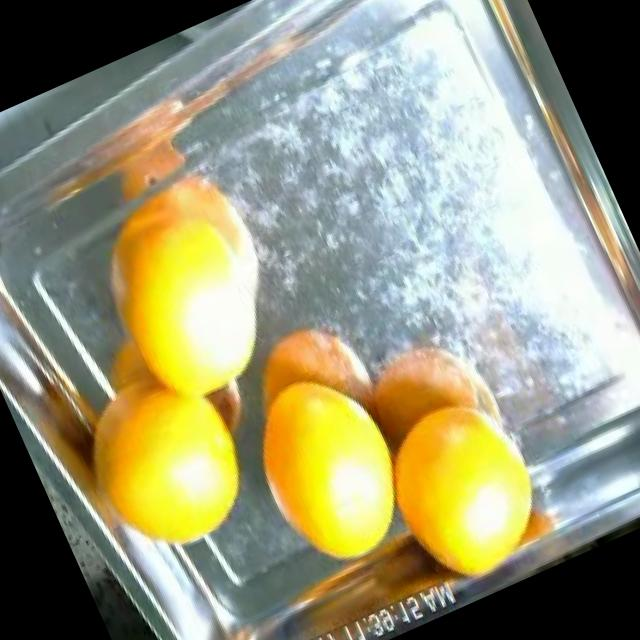Fruit: (342, 352, 587, 612), (216, 347, 440, 598)
